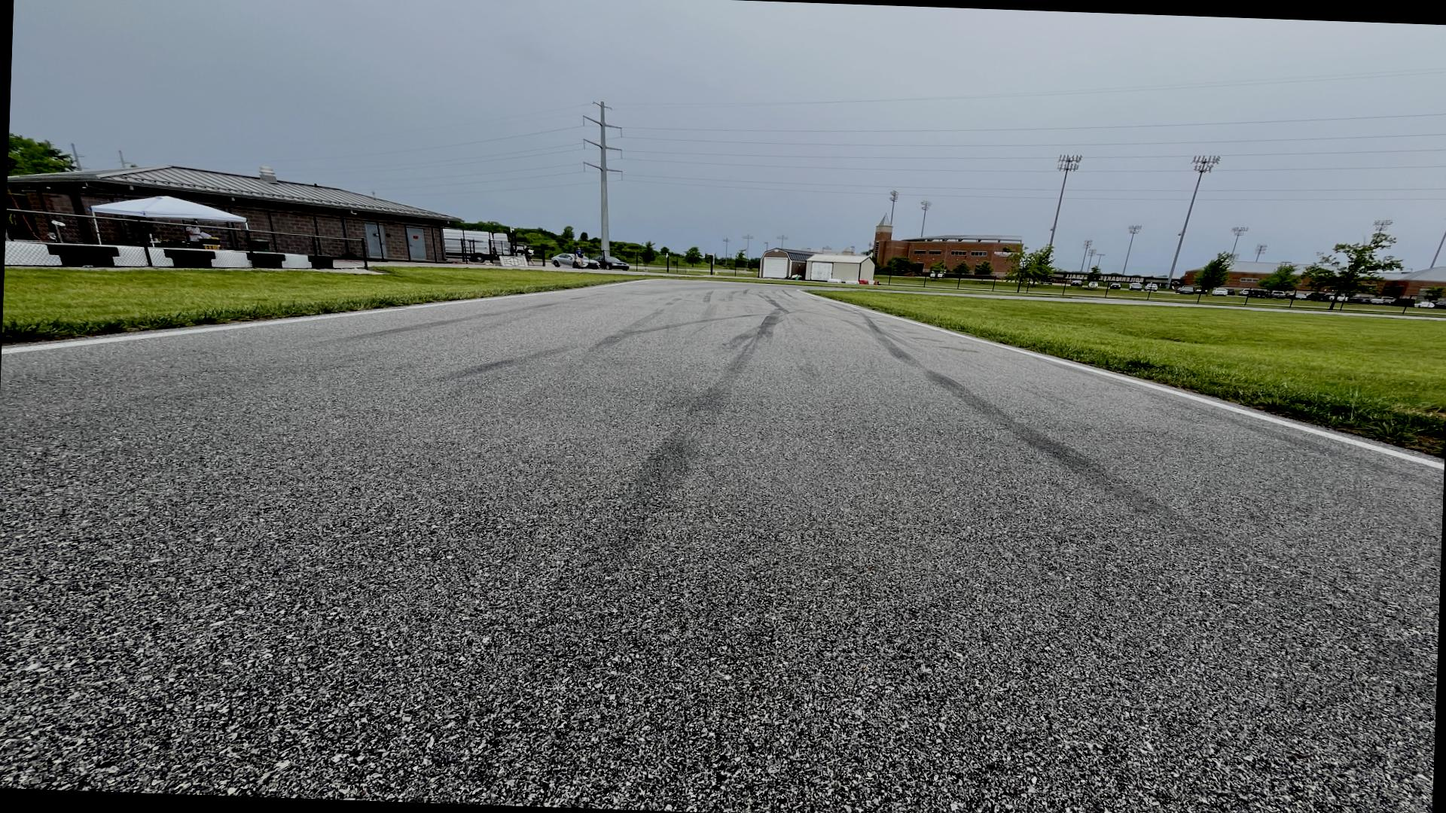white-line: (797, 289, 1443, 474), (2, 277, 767, 356)
